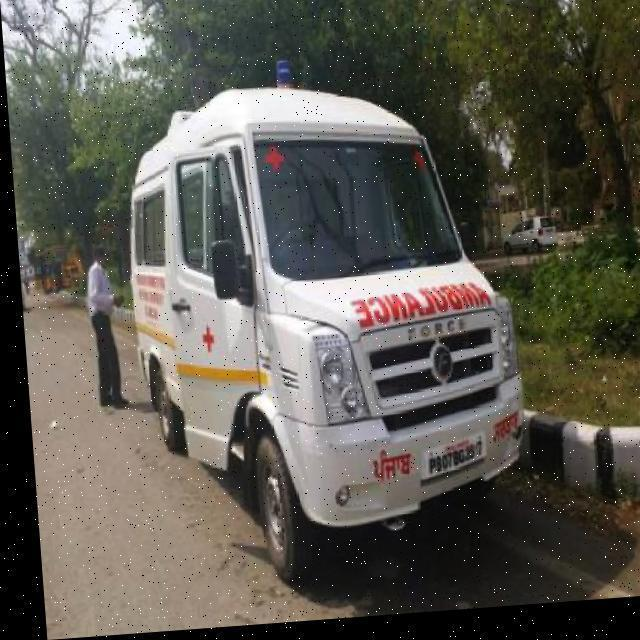Ambulance: (16, 239, 640, 638), (108, 50, 532, 597), (72, 244, 129, 416), (492, 220, 558, 268)
